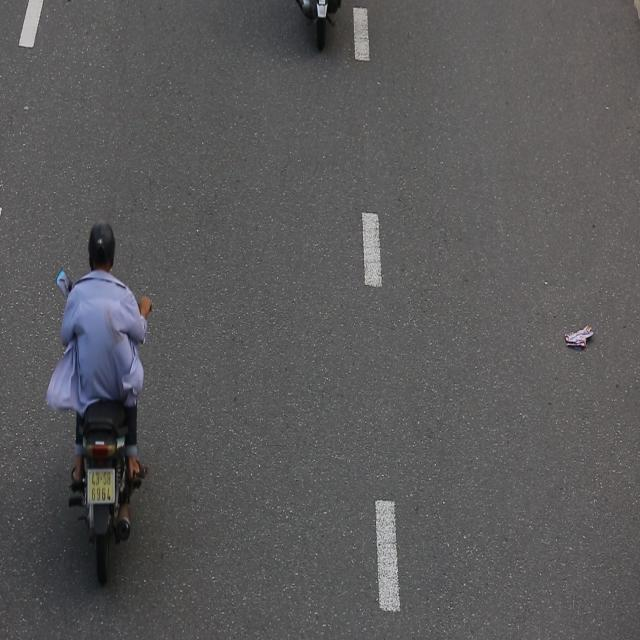motorbike: (44, 220, 162, 584)
